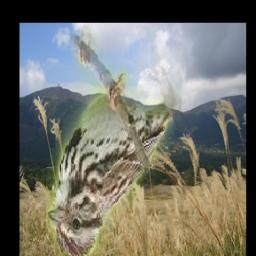Sparrow: (47, 26, 221, 256)
